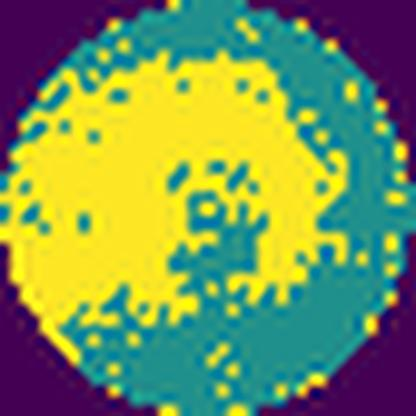Donut: (8, 55, 354, 339)
